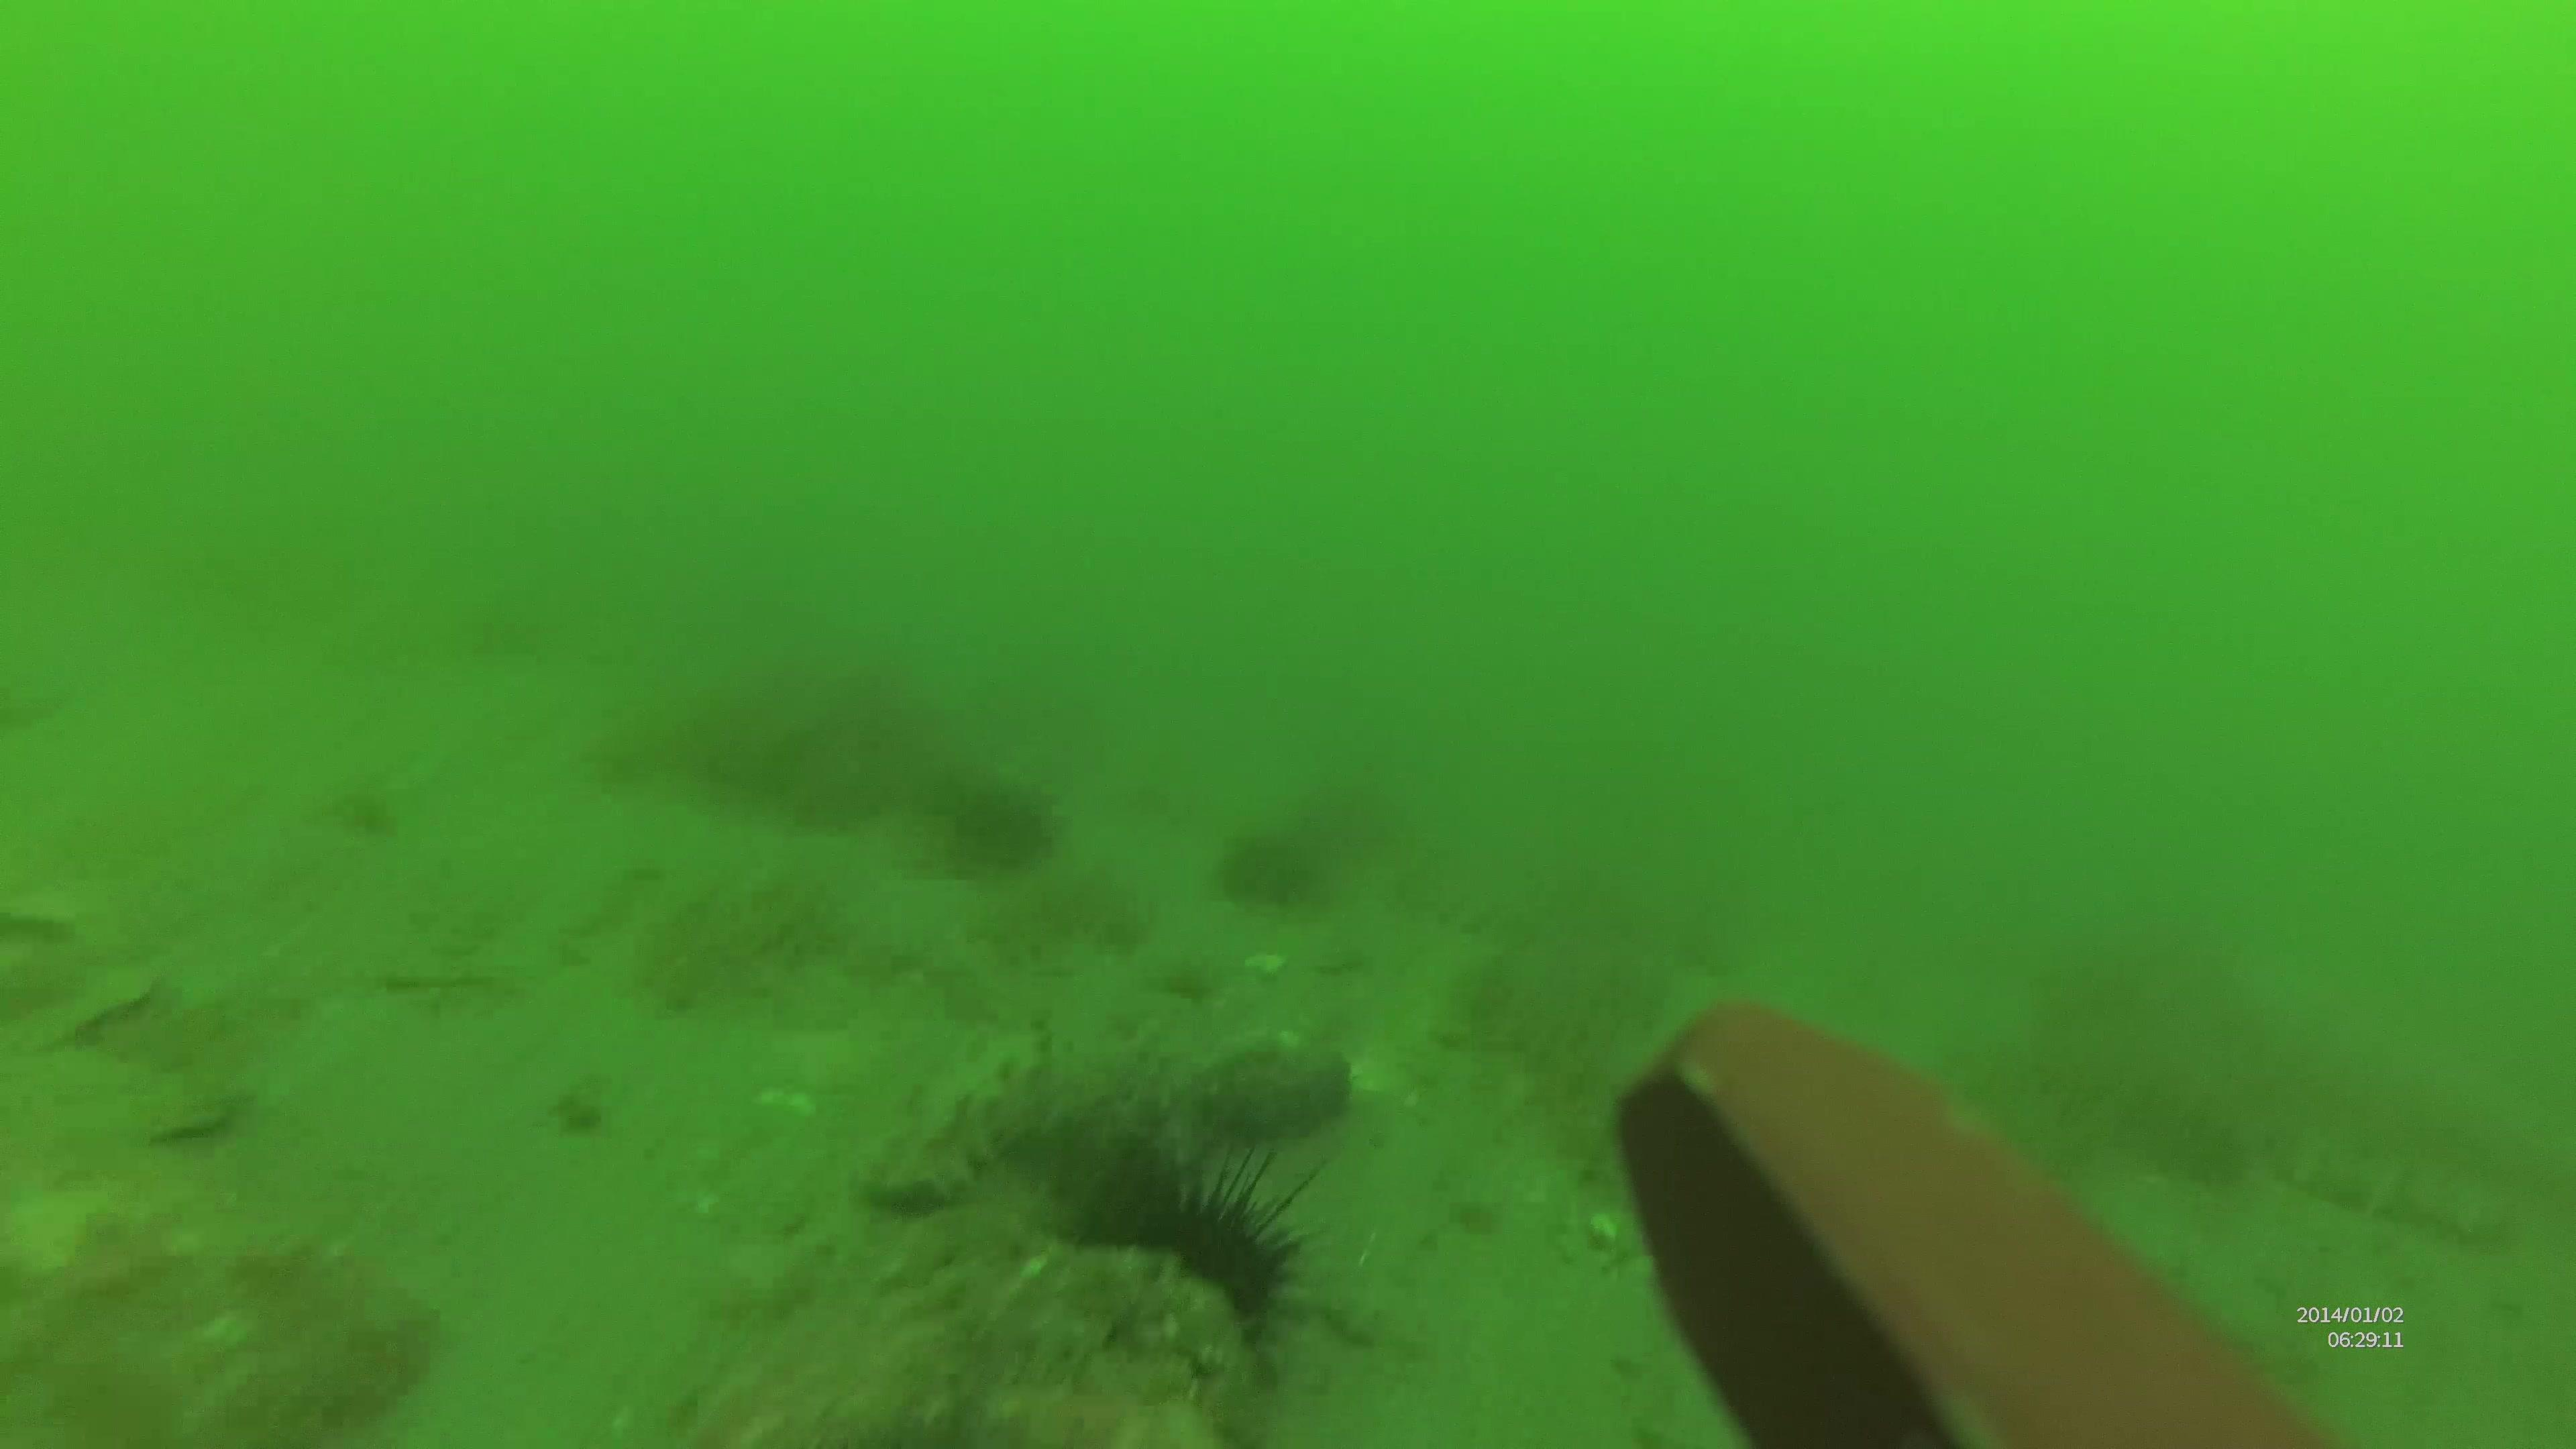echinus: (1069, 1145, 1329, 1339), (932, 770, 1056, 867), (1208, 832, 1327, 911)
holothurian: (849, 1028, 1131, 1203), (2296, 1139, 2519, 1253)
